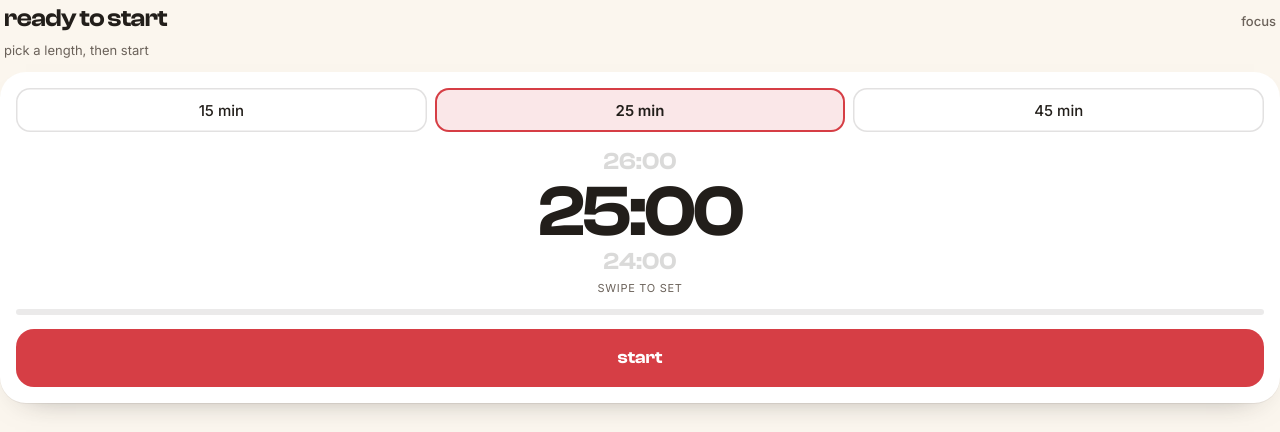
Test: the primary action › starts a focus session while idle
Click the button "start" at [640, 358], box [16,329,1264,387]
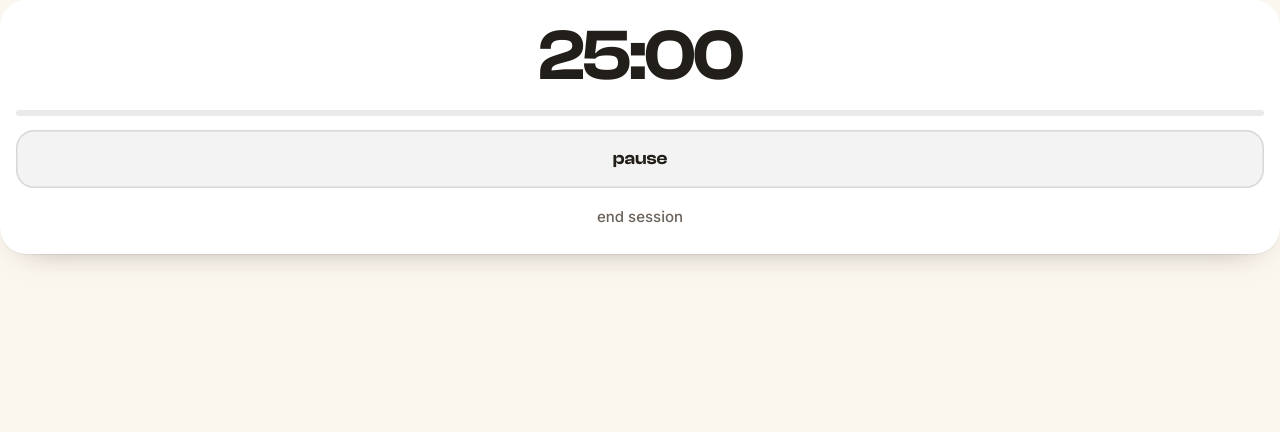
Check: the button "pause" is shown, box [16,130,1264,188]
Check: the heading "ready to start" is gone
